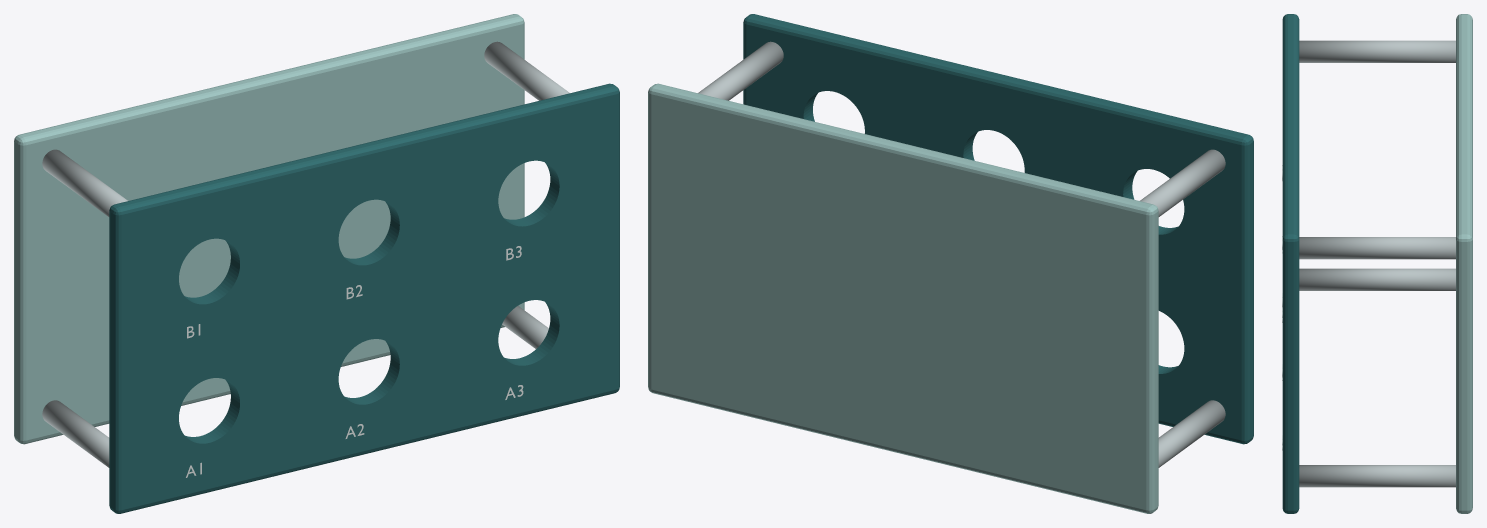
File: tube_rack.glb
3 views of the same model, side by side, from view 1: azimuth 30°, elevation 25°; view 2: azimuth 150°, elevation 25°; view 3: azimuth 270°, elevation 25° (orthographic). The views are drawn at different scales.
Visible parts, largest first — view 1: Rack perforated plate, Rack base, Rack standoff.001, Rack standoff.003, Rack standoff, Rack standoff.002; view 2: Rack base, Rack perforated plate, Rack standoff.001, Rack standoff.003, Rack standoff; view 3: Rack perforated plate, Rack base, Rack standoff, Rack standoff.001, Rack standoff.002, Rack standoff.003.
Part boxes in pixels (left/top/right/bottom): Rack perforated plate: left=109, top=83, right=619, bottom=513; Rack base: left=14, top=14, right=524, bottom=444; Rack standoff.001: left=42, top=149, right=127, bottom=216; Rack standoff.003: left=484, top=41, right=569, bottom=100; Rack standoff: left=42, top=400, right=109, bottom=467; Rack standoff.002: left=502, top=306, right=548, bottom=348; Rack base: left=648, top=83, right=1158, bottom=513; Rack perforated plate: left=743, top=14, right=1253, bottom=444; Rack standoff.001: left=1140, top=149, right=1225, bottom=216; Rack standoff.003: left=698, top=41, right=783, bottom=100; Rack standoff: left=1158, top=400, right=1225, bottom=467; Rack perforated plate: left=1282, top=14, right=1299, bottom=513; Rack base: left=1456, top=14, right=1472, bottom=513; Rack standoff: left=1299, top=268, right=1455, bottom=290; Rack standoff.001: left=1299, top=40, right=1455, bottom=62; Rack standoff.002: left=1299, top=465, right=1455, bottom=487; Rack standoff.003: left=1299, top=237, right=1455, bottom=259.
Bounding box in the file's own units: 0.19 × 0.1102 × 0.0681.
